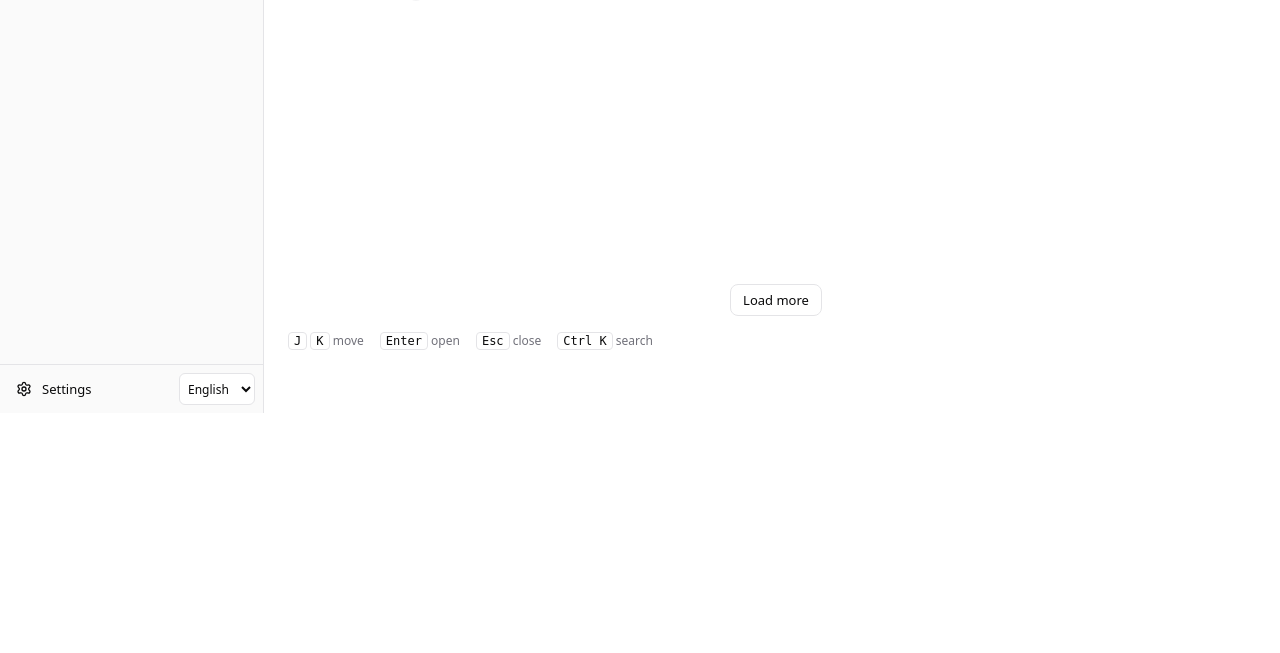
Test: Load more fetches the next 20; counts say + while pages remain
(page scrolled)
Click the button "Load more" at (776, 300), box [730,284,822,316]
(page scrolled)
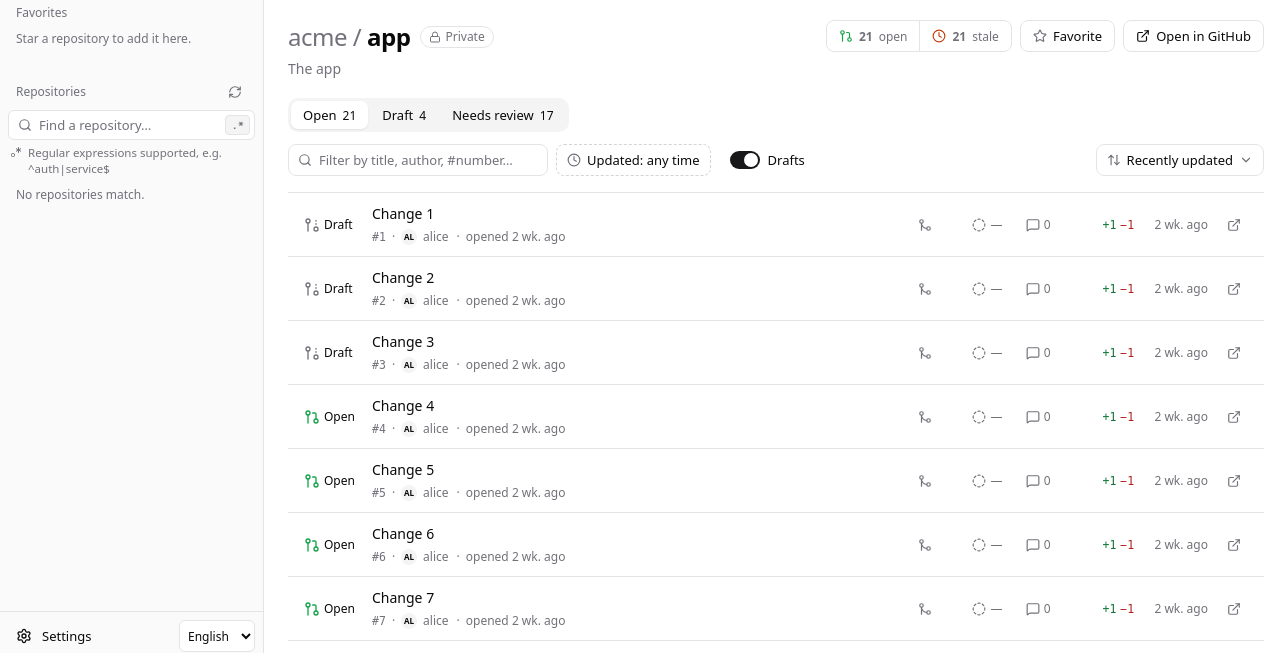
Check: the tab "Draft 4" is shown, box [370,101,438,129]
